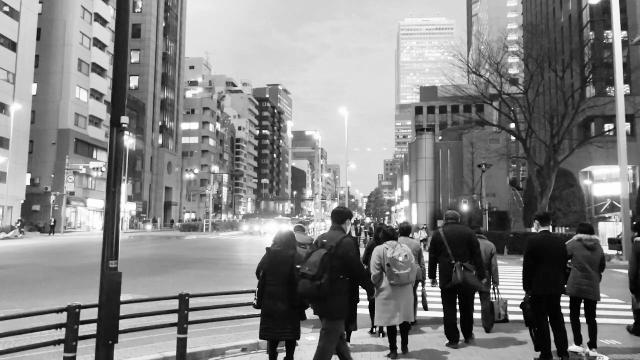berjalan: (307, 204, 371, 360), (255, 226, 309, 360), (434, 200, 482, 350), (372, 220, 420, 358), (524, 212, 568, 360)
